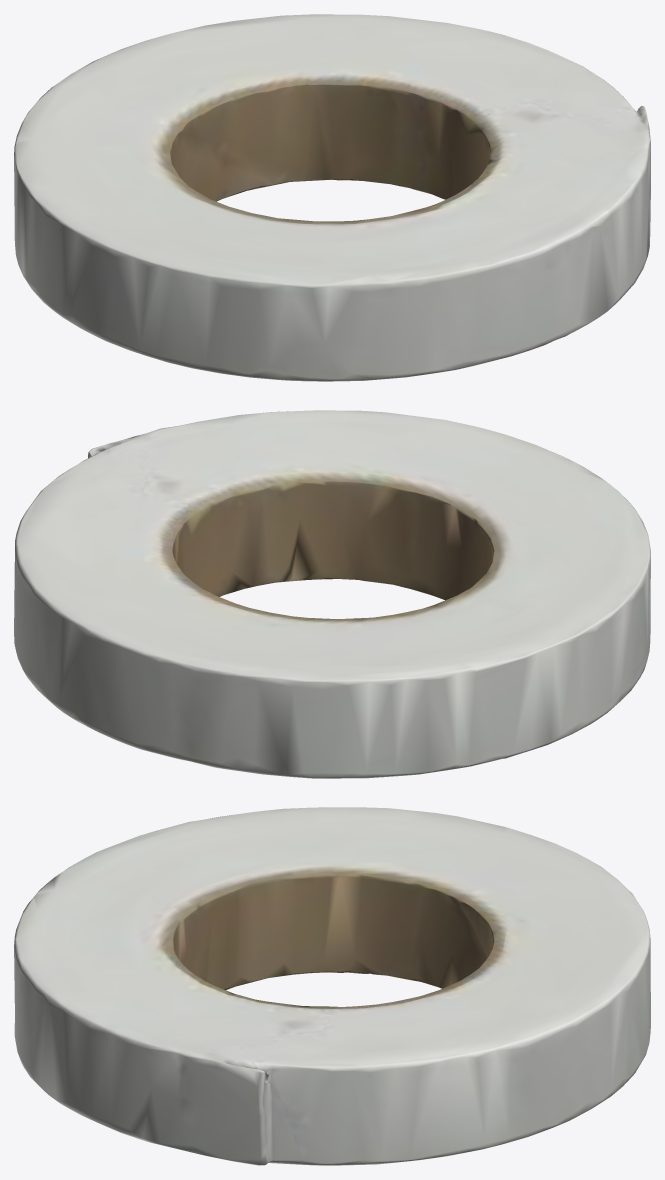
File: 3M_Antislip_Surfacing_Light_Duty_White-high.glb
3 renders of one model, top to bottom at view 1: azimuth 30°, elevation 25°; view 2: azimuth 150°, elevation 25°; view 3: azimuth 270°, elevation 25°, orthographic.
Visible parts, largest first — view 1: 3M_Antislip_Surfacing_Light_Duty_White; view 2: 3M_Antislip_Surfacing_Light_Duty_White; view 3: 3M_Antislip_Surfacing_Light_Duty_White.
Part boxes in pixels (x1,y1,x2,y2): 3M_Antislip_Surfacing_Light_Duty_White: (14,14,650,381); 3M_Antislip_Surfacing_Light_Duty_White: (14,410,650,778); 3M_Antislip_Surfacing_Light_Duty_White: (14,807,650,1165).
Bounding box in the file's own units: 0.1547 × 0.0286 × 0.1535.
1 material, 1 textured.
